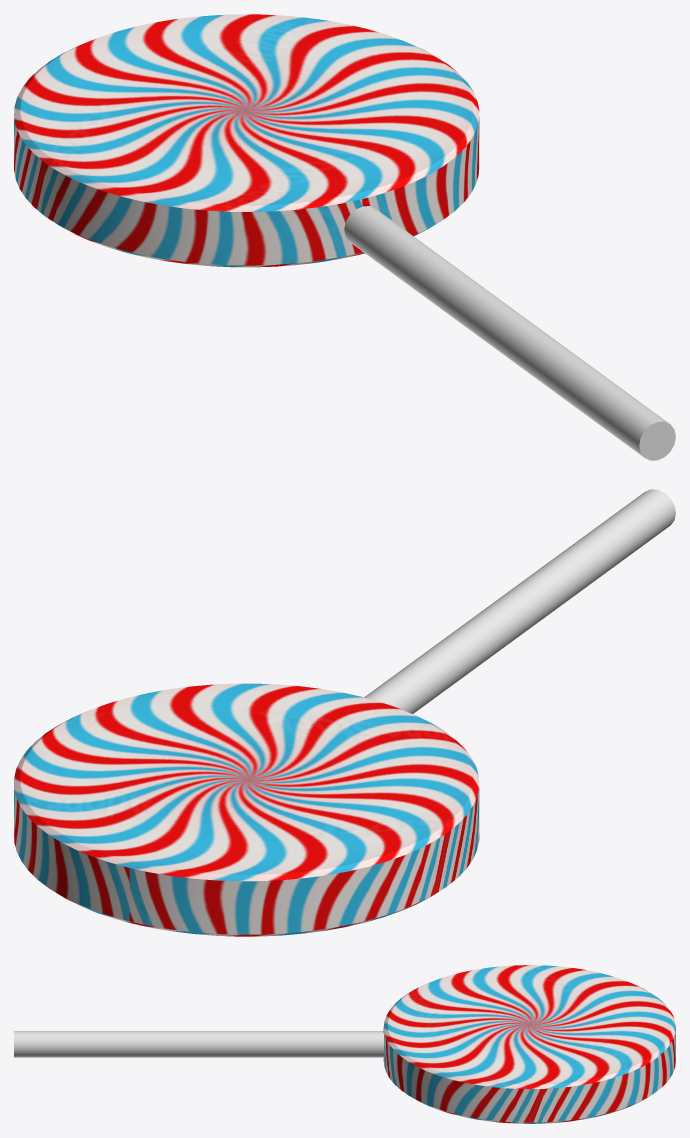
File: Lolipop.fbx
3 views of the same model, one above another, from view 1: azimuth 30°, elevation 25°; view 2: azimuth 150°, elevation 25°; view 3: azimuth 270°, elevation 25° (orthographic). The views are drawn at different scales.
Parts seen in each view (by area): view 1: Lolipop; view 2: Lolipop; view 3: Lolipop.
Part boxes in pixels (x1,y1,x2,y2): Lolipop: [14, 14, 675, 460]; Lolipop: [14, 489, 675, 936]; Lolipop: [14, 965, 675, 1123].
Bounding box in the file's own units: 200 × 29.13 × 453.
